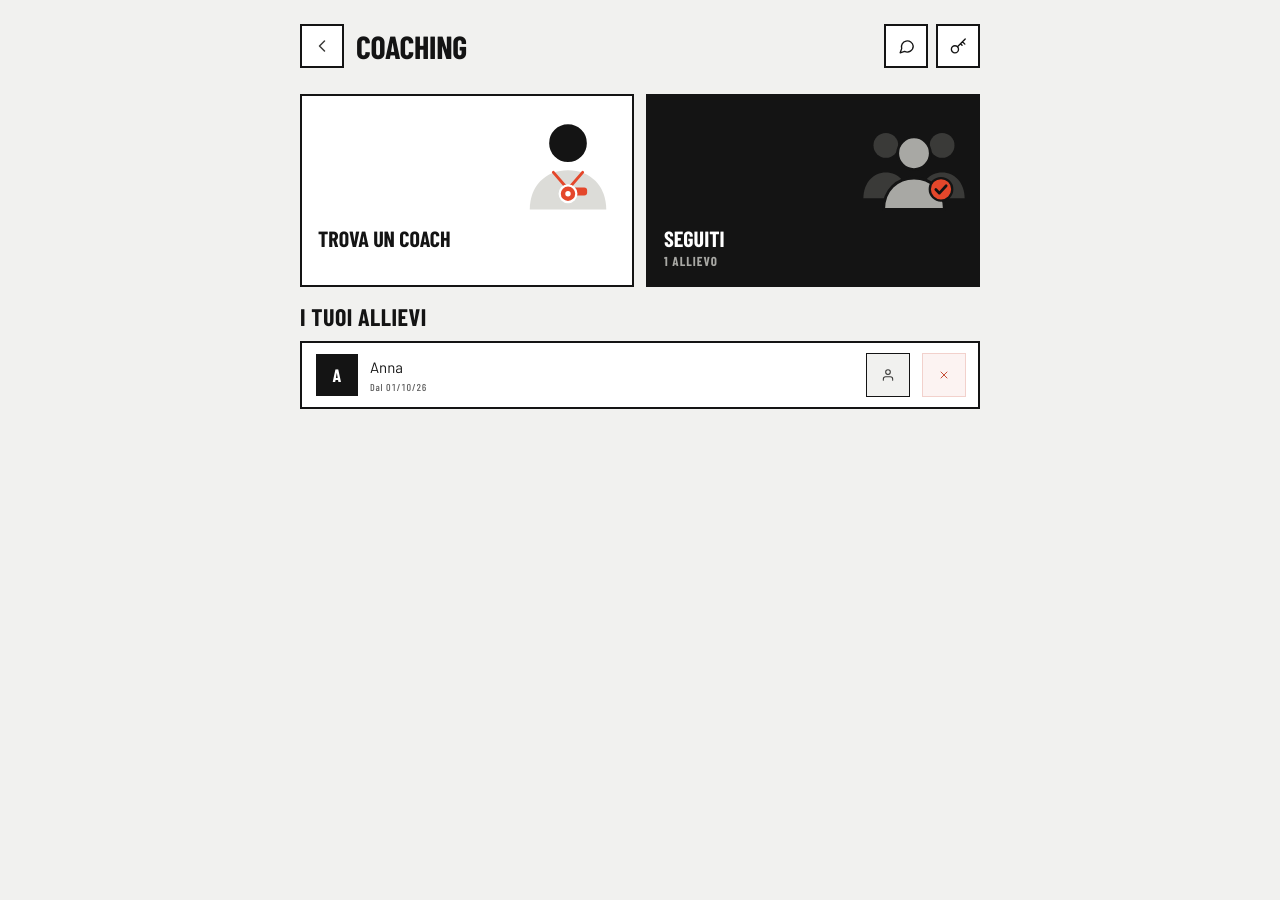
Test: il numero nella pagina dell’allievo › eliminare una scheda che non si può più toccare dice perché, e la scheda resta
The image size is (1280, 900).
Click the button "A Anna Dal 01/10/26" at (372, 375), box [316,354,427,396]
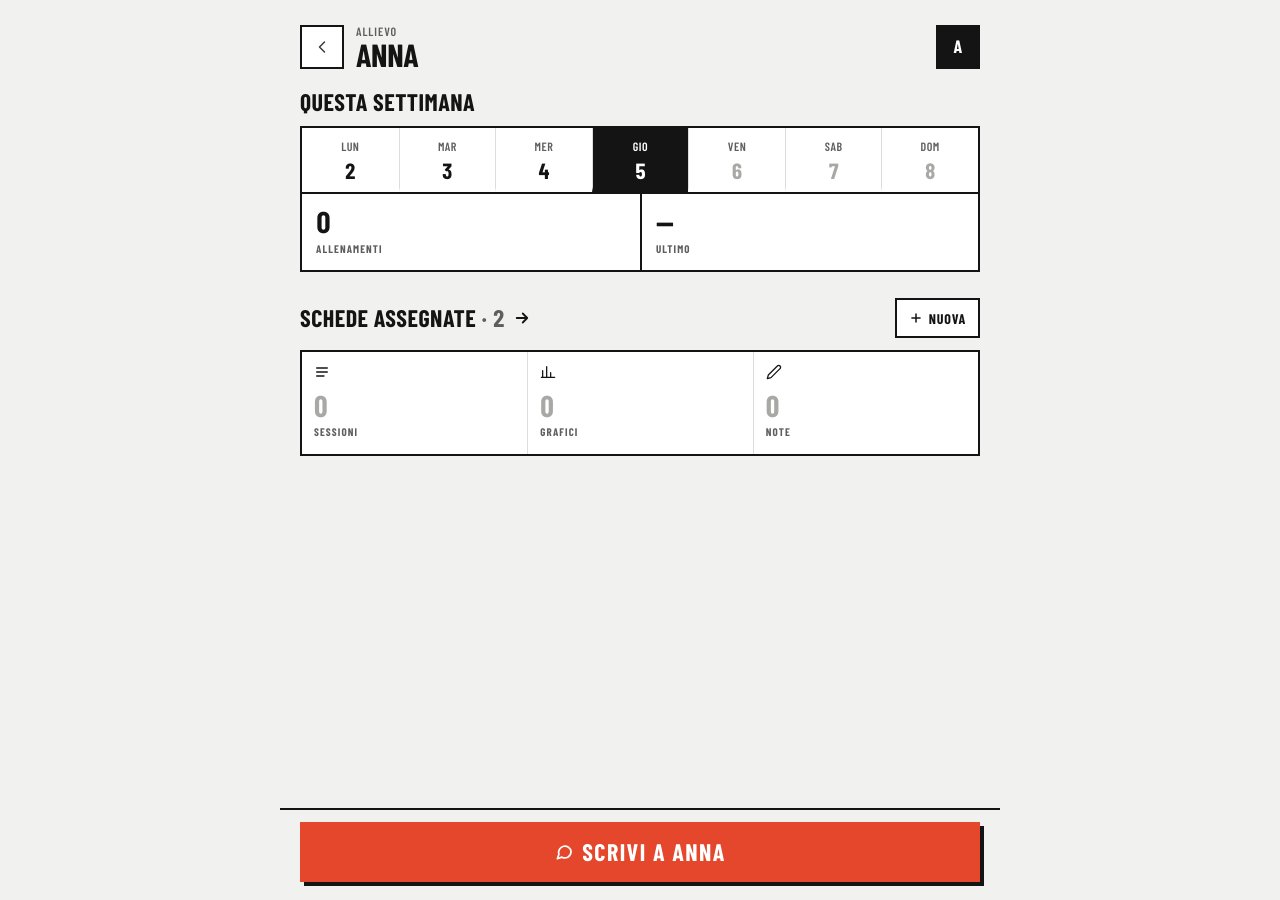
Click the button "Schede assegnate · 2" at (416, 318), box [300,298,531,338]
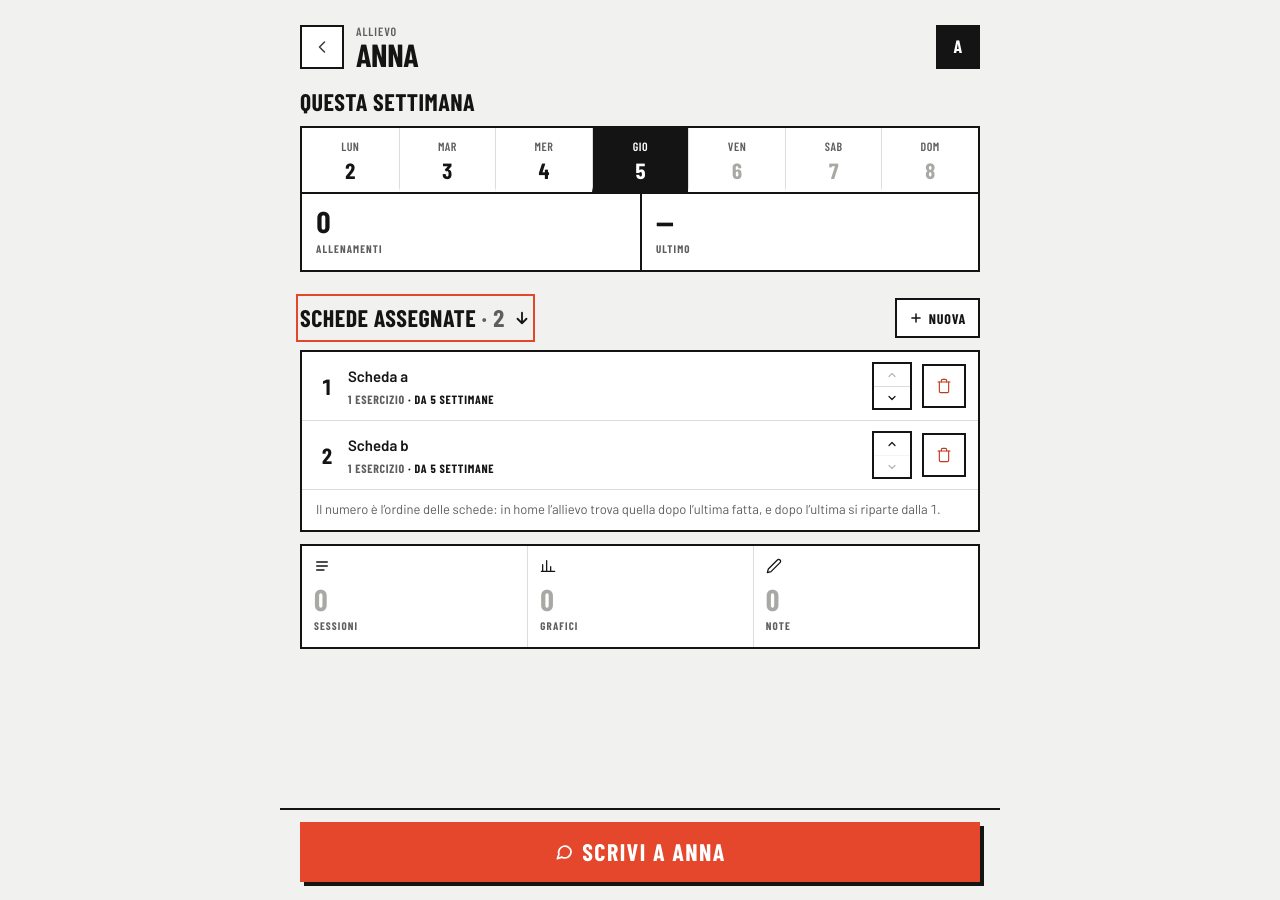
Click the button named "Elimina Scheda a" at (944, 386), box [922,364,966,408]
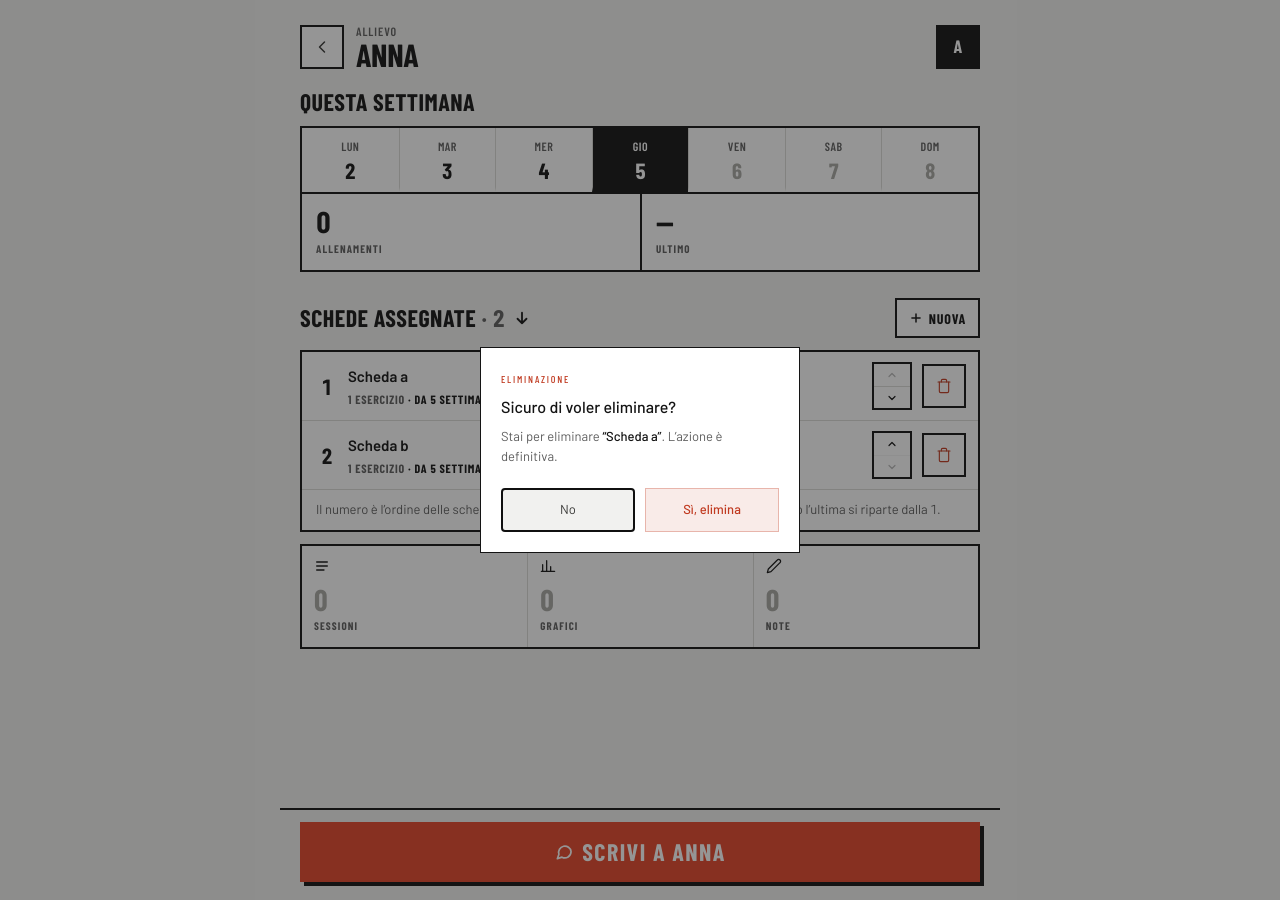
Click the button "Sì, elimina" at (712, 510), box [645,488,779,532]
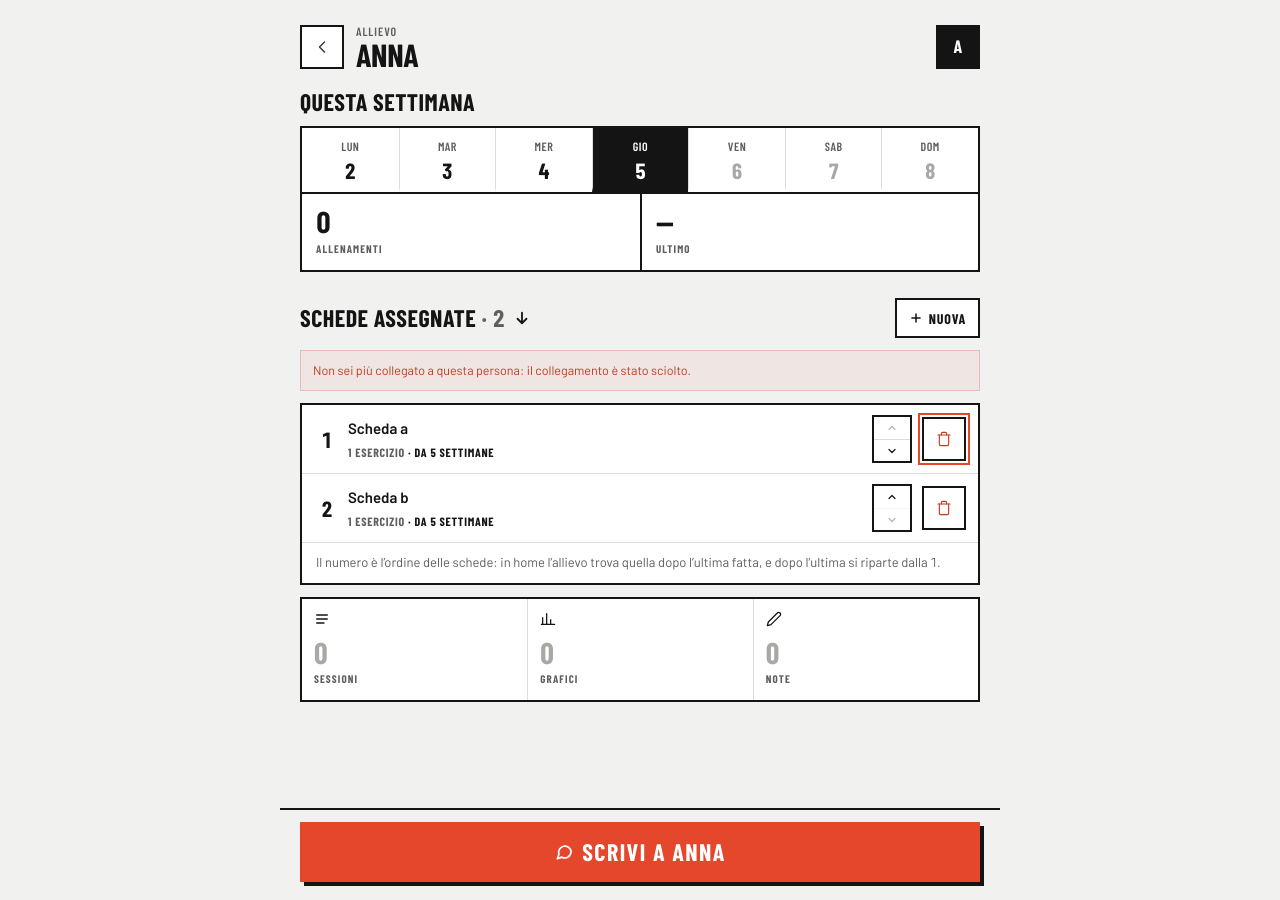
Check: the text "Scheda a" is shown, box [348,417,408,440]
Check: the text "Non sei più collegato a questa persona: il collegamento è stato sciolto." is shown, box [300,350,980,391]
